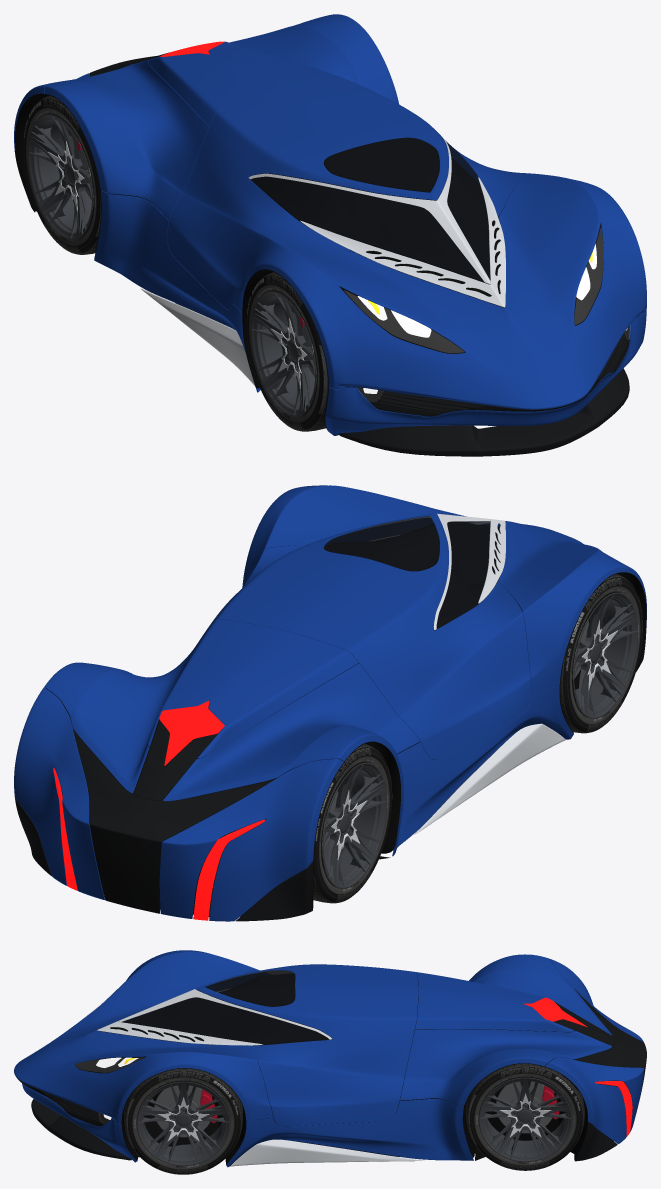
The model's file is concept-car-039.glb.
The picture shows the model from 3 angles, top to bottom: view 1: azimuth 30°, elevation 25°; view 2: azimuth 150°, elevation 25°; view 3: azimuth 270°, elevation 25°; orthographic projection. The views are drawn at different scales.
Parts seen in each view (by area): view 1: body, blackout, glass, trim, chrome, wheel_fr_rim, wheel_rr_rim, headlight_lens, wheel_fr_tyre, wheel_rr_tyre, headlight; view 2: body, trim, blackout, glass, wheel_rr_rim, wheel_fr_rim, chrome, taillight, wheel_fr_tyre, wheel_rr_tyre; view 3: body, blackout, glass, trim, chrome, wheel_rl_rim, wheel_fl_rim, wheel_rl_tyre, wheel_fl_tyre, taillight, wheel_rl_disc, wheel_fl_disc (+5 smaller).
Boxes of the visible parts, left/top/right/bottom form: body: left=14, top=14, right=646, bottom=435; blackout: left=15, top=93, right=629, bottom=430; glass: left=251, top=137, right=490, bottom=281; trim: left=14, top=52, right=629, bottom=456; chrome: left=141, top=136, right=505, bottom=386; wheel_fr_rim: left=251, top=290, right=316, bottom=416; wheel_rr_rim: left=28, top=114, right=93, bottom=240; headlight_lens: left=345, top=228, right=629, bottom=401; wheel_fr_tyre: left=246, top=275, right=327, bottom=431; wheel_rr_tyre: left=23, top=98, right=100, bottom=254; headlight: left=357, top=244, right=627, bottom=393; body: left=14, top=485, right=646, bottom=921; trim: left=15, top=720, right=313, bottom=921; blackout: left=46, top=522, right=646, bottom=916; glass: left=324, top=516, right=490, bottom=628; wheel_rr_rim: left=322, top=762, right=387, bottom=888; wheel_fr_rim: left=572, top=592, right=637, bottom=718; chrome: left=362, top=513, right=565, bottom=834; taillight: left=53, top=700, right=265, bottom=920; wheel_fr_tyre: left=562, top=576, right=642, bottom=732; wheel_rr_tyre: left=282, top=746, right=392, bottom=902; body: left=14, top=950, right=644, bottom=1167; blackout: left=48, top=973, right=628, bottom=1163; glass: left=122, top=970, right=328, bottom=1044; trim: left=18, top=989, right=646, bottom=1161; chrome: left=97, top=971, right=424, bottom=1166; wheel_rl_rim: left=479, top=1077, right=572, bottom=1161; wheel_fl_rim: left=137, top=1081, right=230, bottom=1165; wheel_rl_tyre: left=467, top=1066, right=583, bottom=1170; wheel_fl_tyre: left=125, top=1070, right=241, bottom=1174; taillight: left=523, top=997, right=632, bottom=1136; wheel_rl_disc: left=496, top=1081, right=552, bottom=1133; wheel_fl_disc: left=154, top=1085, right=210, bottom=1137.
Bounding box in the file's own units: 2 × 1.1 × 4.65.
Materials: 14 (2 with a texture image).
